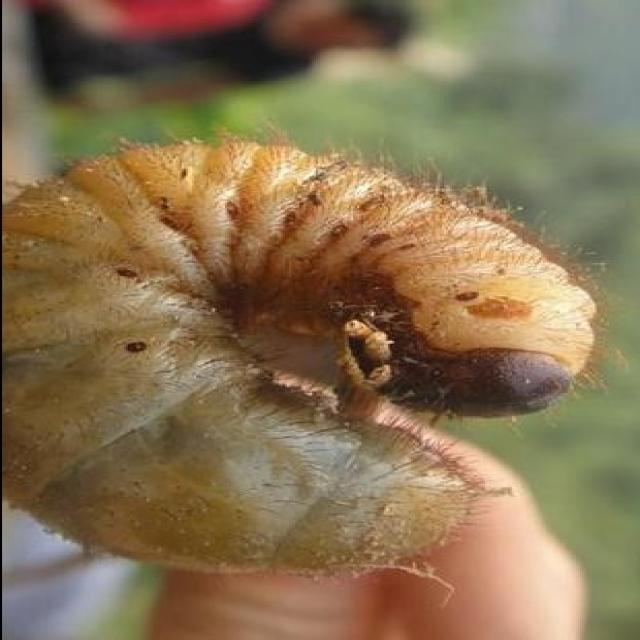grub: (4, 136, 609, 584)
